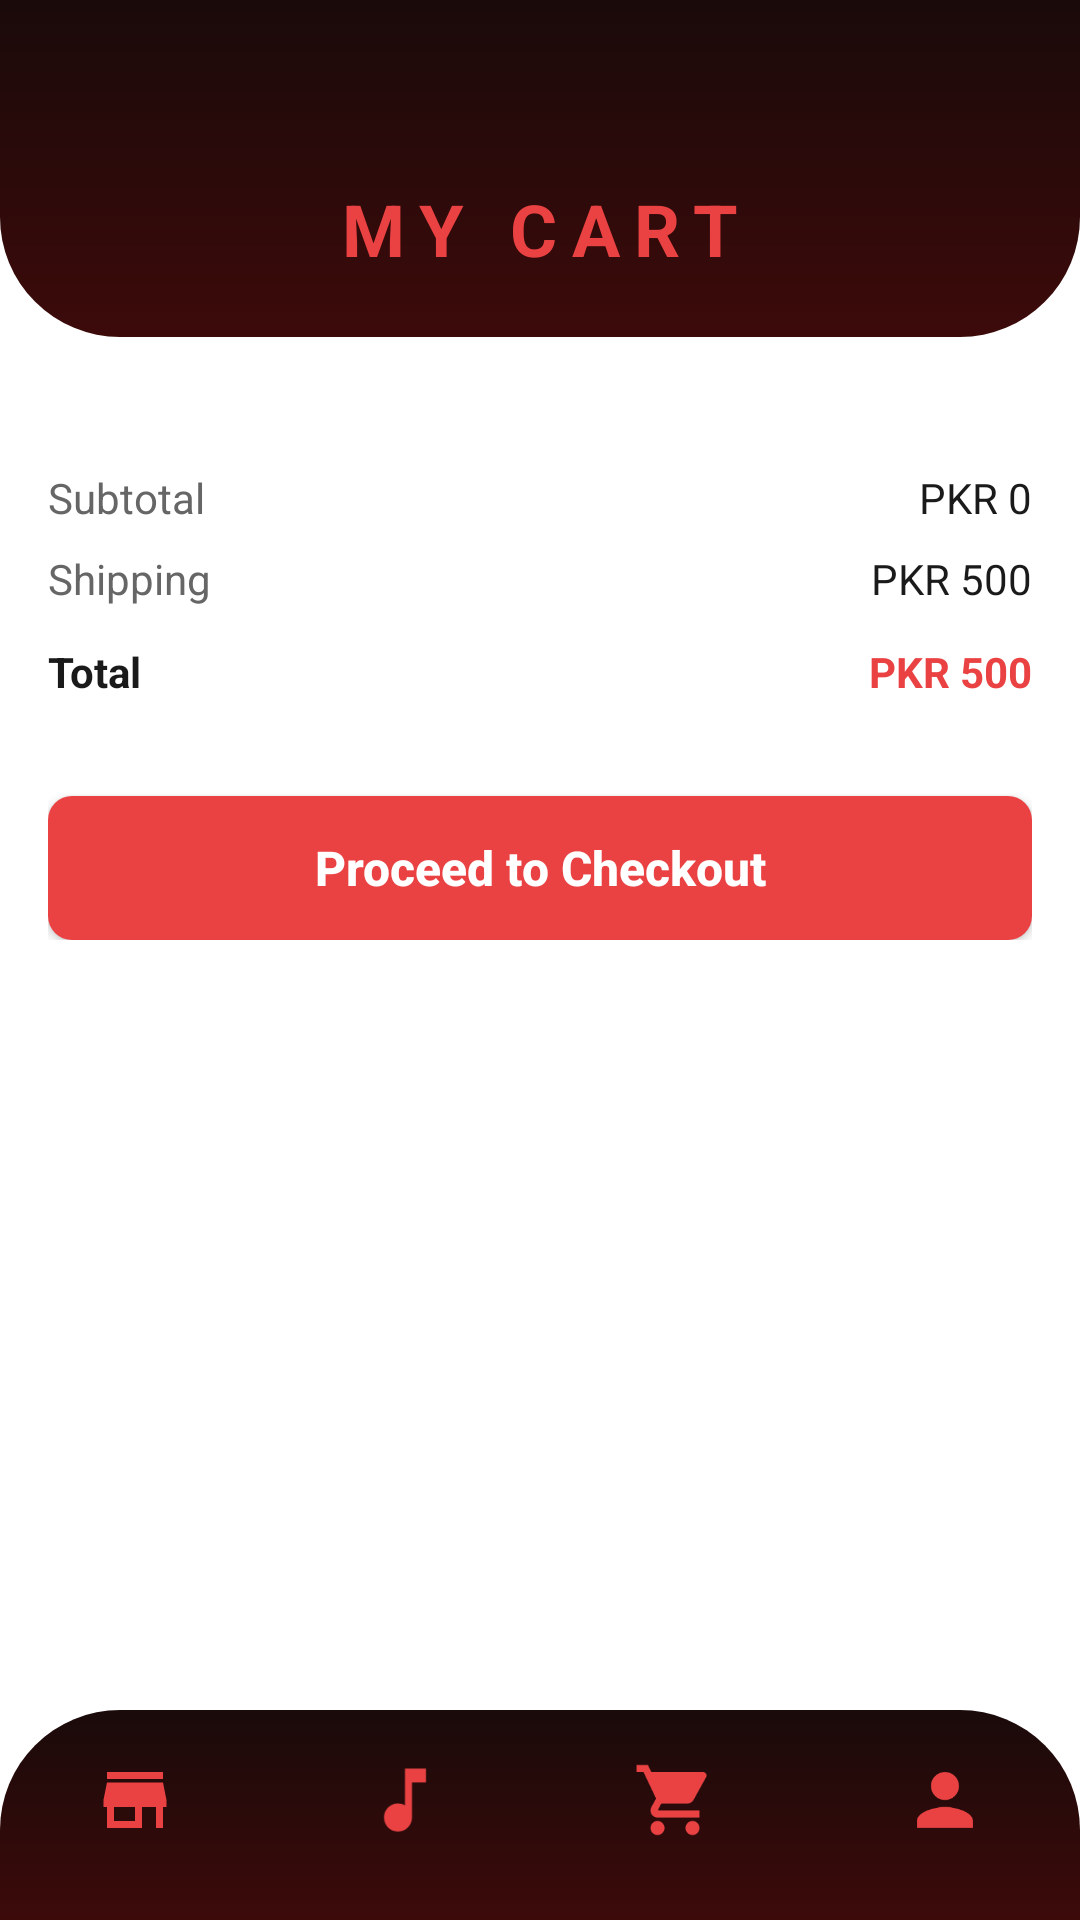

Icons on this 1080 × 1920 Android screen, each with its box as (x1, y1, x2, y2):
cart: (636, 1764, 707, 1836)
lessons: (383, 1768, 427, 1832)
profile: (917, 1772, 973, 1828)
shop: (103, 1772, 167, 1828)
